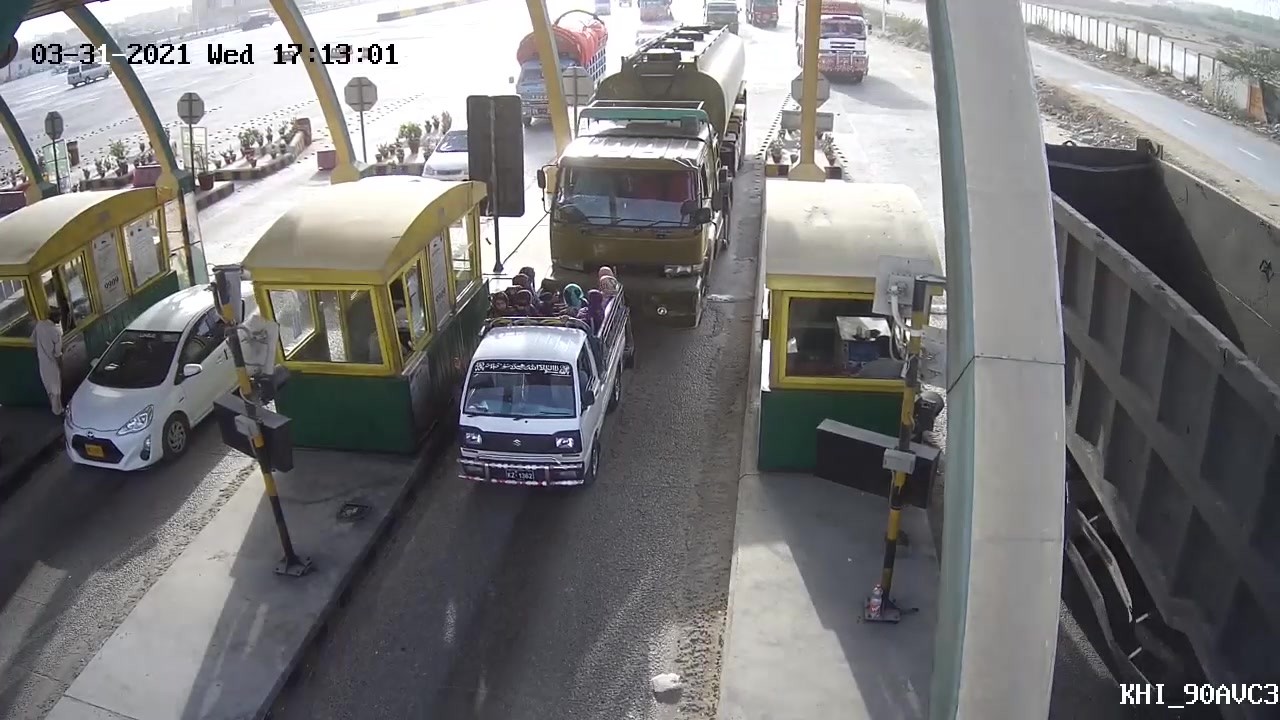F1: (426, 265, 631, 507)
F6: (542, 21, 753, 327)
